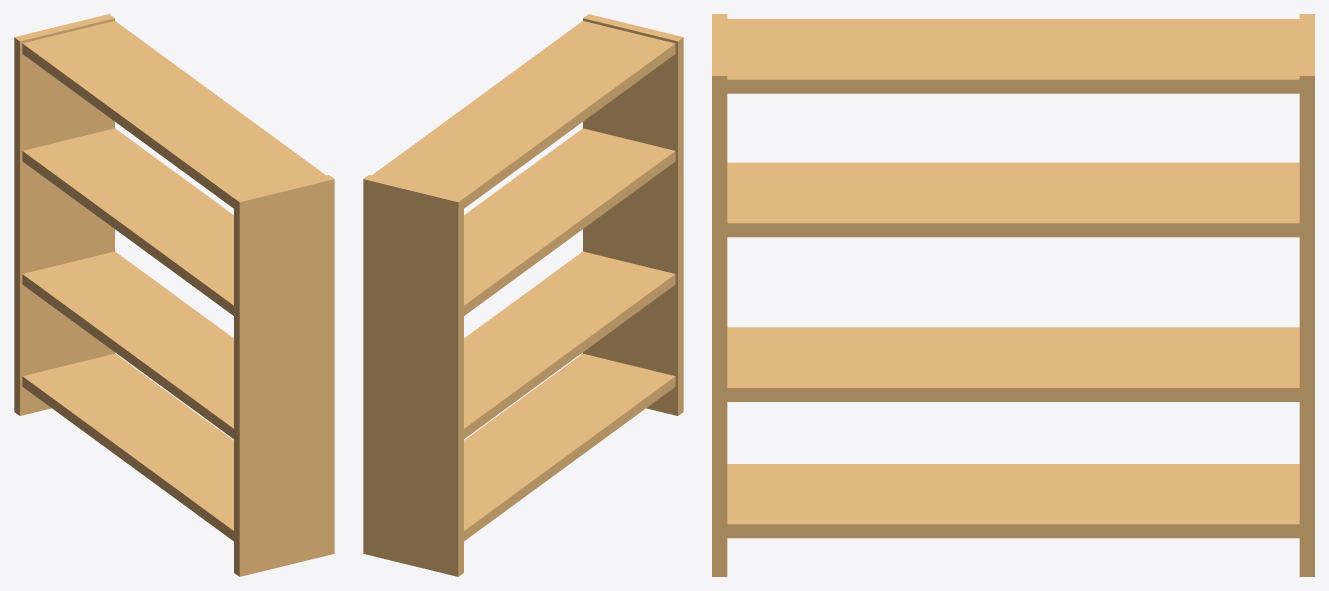
The model's file is Shelf (1).glb.
The picture shows the model from 3 angles, left to right: view 1: azimuth 30°, elevation 25°; view 2: azimuth 150°, elevation 25°; view 3: azimuth 270°, elevation 25°; orthographic projection. The views are drawn at different scales.
Parts seen in each view (by area): view 1: group537364515, group250719238, group1800173757, group1417189614, group500013617, group2109013487; view 2: group1800173757, group250719238, group537364515, group1417189614, group500013617, group2109013487; view 3: group500013617, group1417189614, group250719238, group2109013487, group537364515, group1800173757.
Boxes of the visible parts, box(x1,y1,x2,y2) form: group537364515: box(234, 175, 334, 576); group250719238: box(22, 21, 325, 208); group1800173757: box(14, 14, 114, 415); group1417189614: box(22, 251, 233, 438); group500013617: box(22, 128, 233, 315); group2109013487: box(22, 353, 233, 541); group1800173757: box(363, 175, 463, 576); group250719238: box(372, 21, 675, 208); group537364515: box(583, 14, 683, 415); group1417189614: box(464, 251, 675, 438); group500013617: box(464, 128, 675, 315); group2109013487: box(464, 353, 675, 541); group500013617: box(727, 162, 1299, 237); group1417189614: box(727, 327, 1299, 401); group250719238: box(727, 19, 1299, 93); group2109013487: box(727, 464, 1299, 538); group537364515: box(712, 14, 727, 576); group1800173757: box(1299, 14, 1314, 576).
Size of the model in its own units: 0.38 by 1.43 by 1.56.
